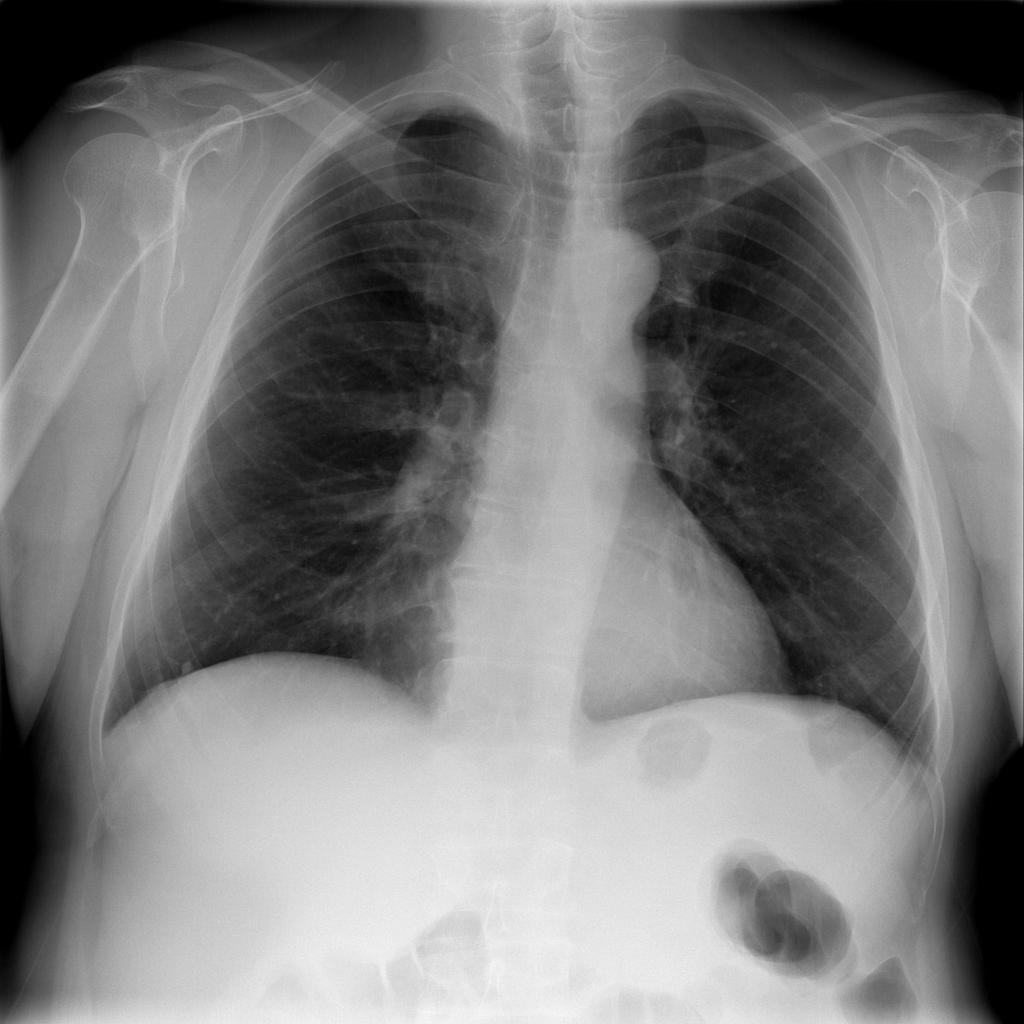nodule: (162, 638, 209, 692)
